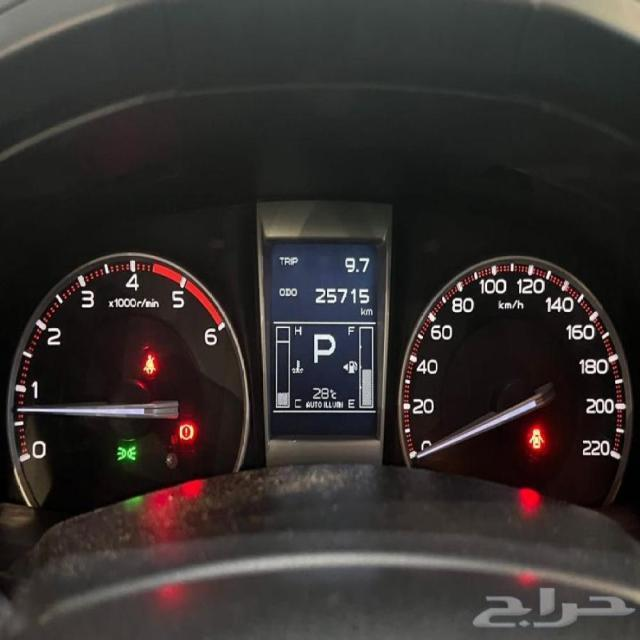Seat Belt: (142, 352, 157, 377)
